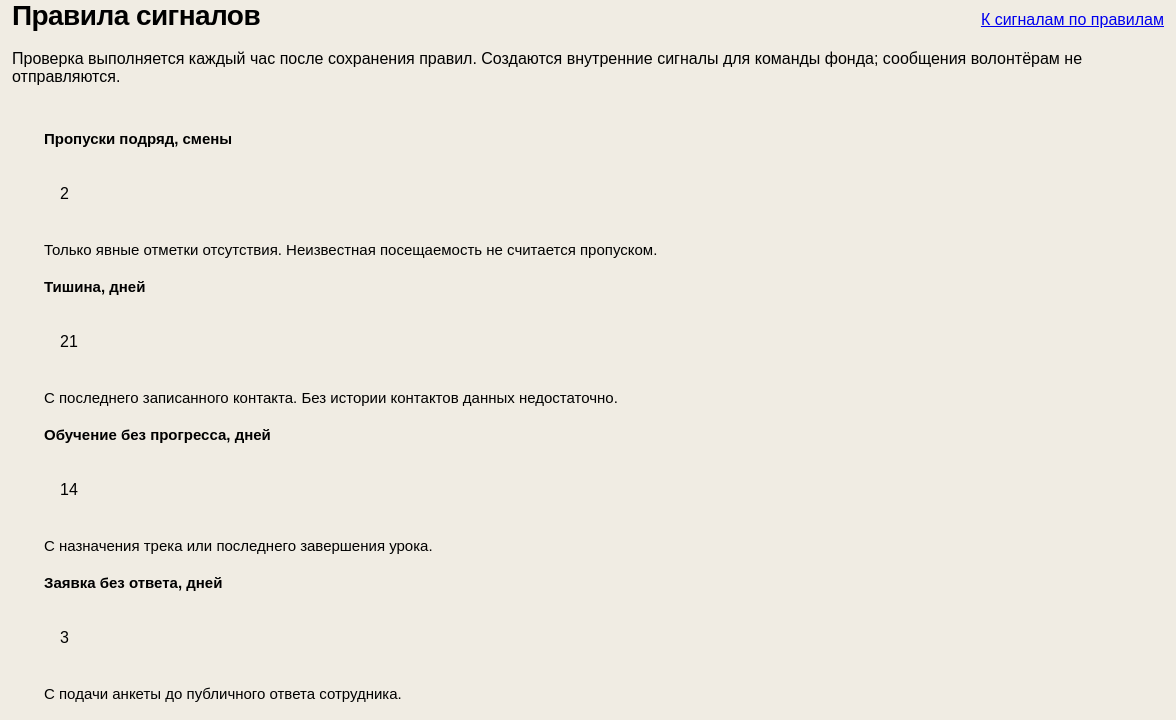
validates numeric thresholds and saves only after an explicit action using the loaded version
Replace the text in the number field labelled "Пропуски подряд, смены" with "0" at (604, 194), box [44, 155, 1164, 233]
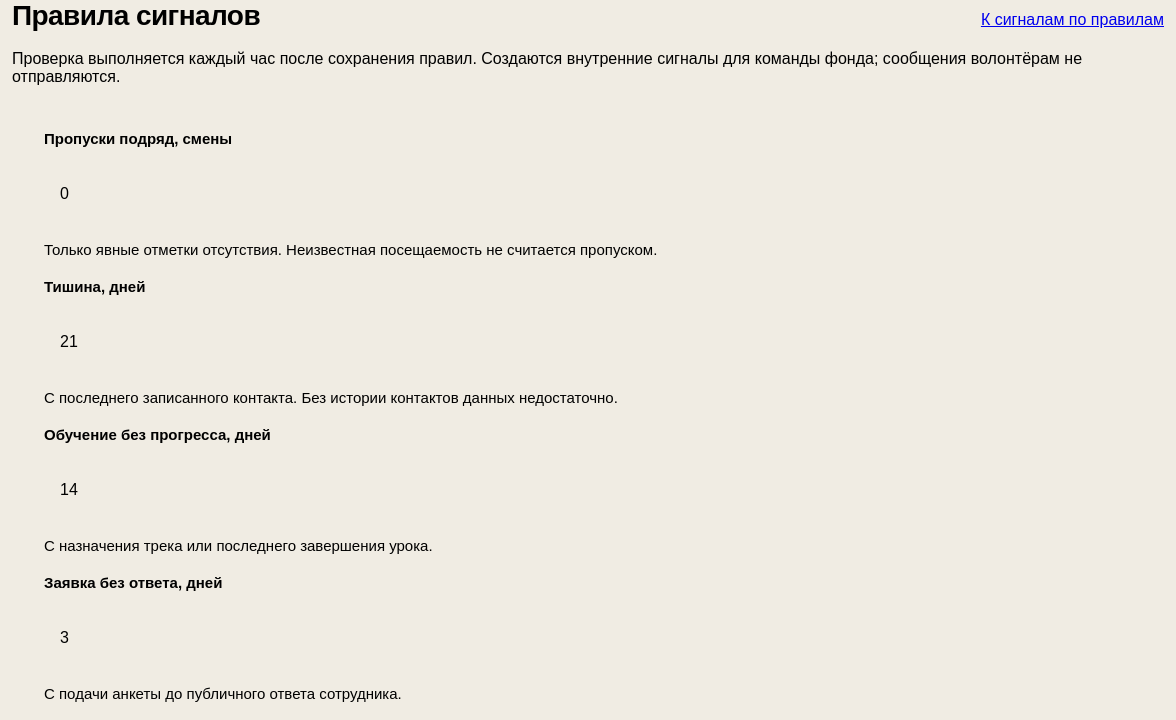
Replace the text in the number field labelled "Пропуски подряд, смены" with "3" at (604, 194), box [44, 155, 1164, 233]
(page scrolled)
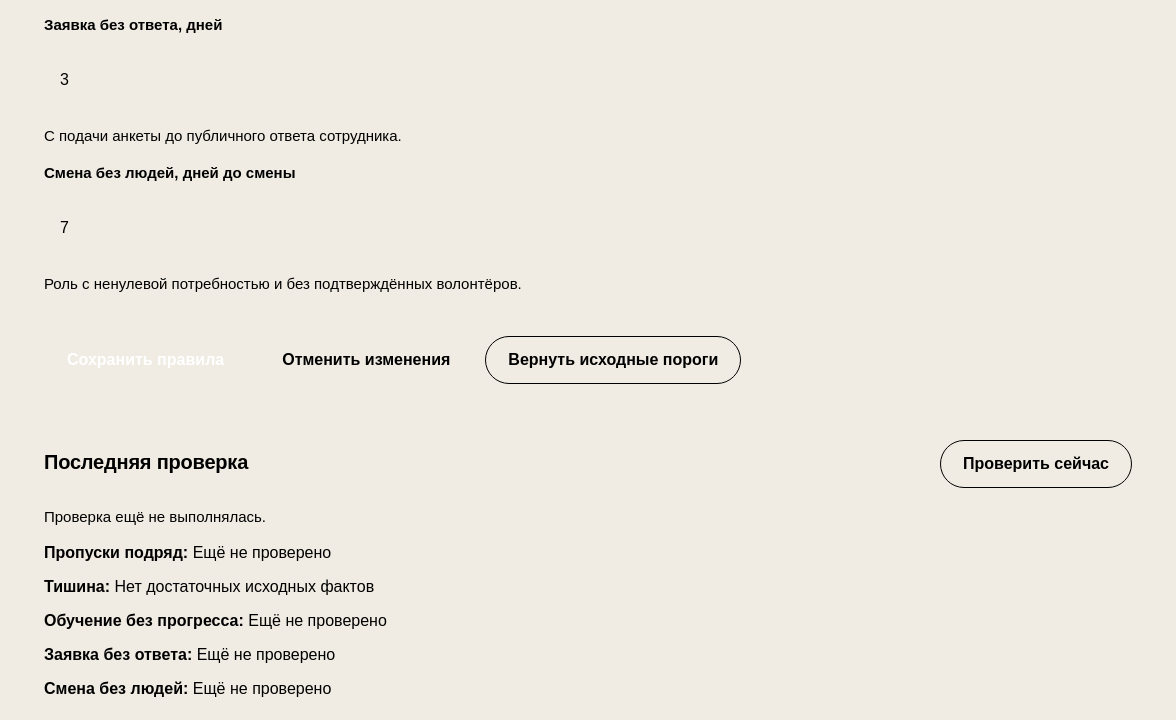
Click the button "Сохранить правила" at (146, 360), box [44, 336, 247, 384]
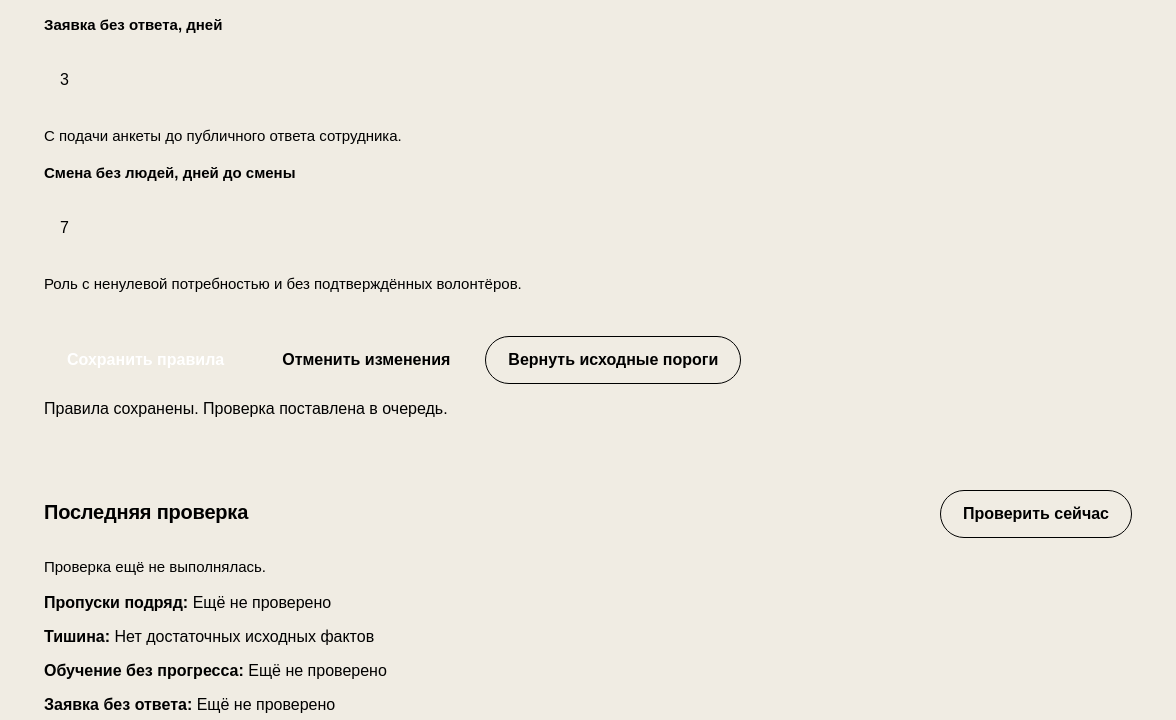
Expected: the text "Правила сохранены. Проверка поставлена в очередь." is shown, [44, 400, 448, 417]
